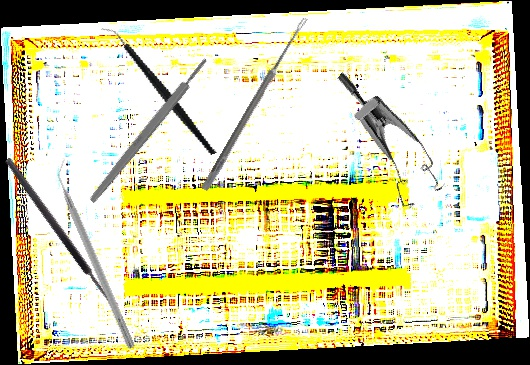Chopper: (99, 6, 218, 176), (49, 156, 146, 351)
Hook Surgical: (2, 151, 135, 322)
Scalpel Handle: (87, 56, 211, 205)
Speculum: (299, 70, 464, 219)
Surgical Spoon: (201, 14, 309, 193)
